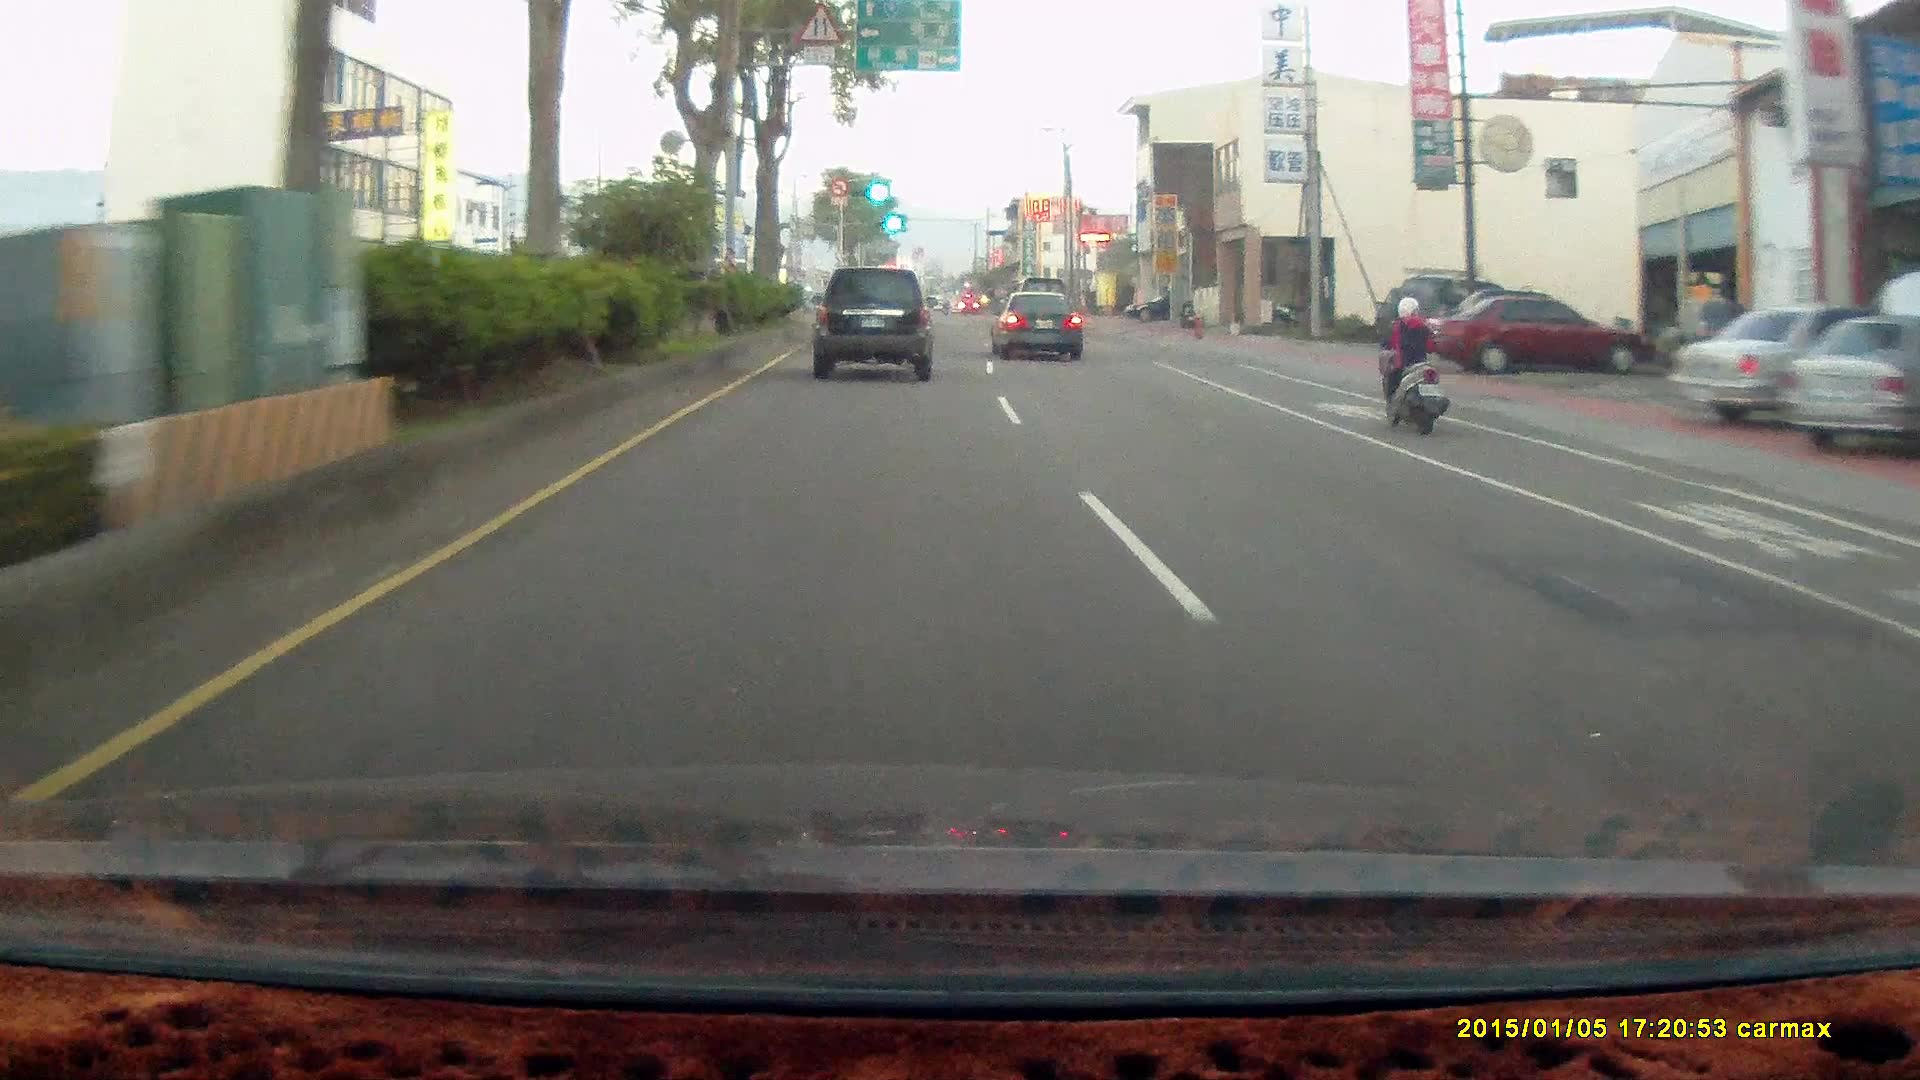rider: (1363, 282, 1461, 448), (1372, 293, 1446, 433)
vehicle: (1671, 306, 1889, 433), (1775, 315, 1920, 456), (1773, 315, 1920, 450), (1429, 297, 1646, 382), (1421, 295, 1651, 375), (811, 272, 937, 387), (812, 270, 934, 383), (1386, 273, 1522, 363), (1387, 274, 1513, 358), (1653, 298, 1757, 370), (992, 291, 1086, 362), (987, 286, 1080, 357), (1123, 292, 1196, 321)
